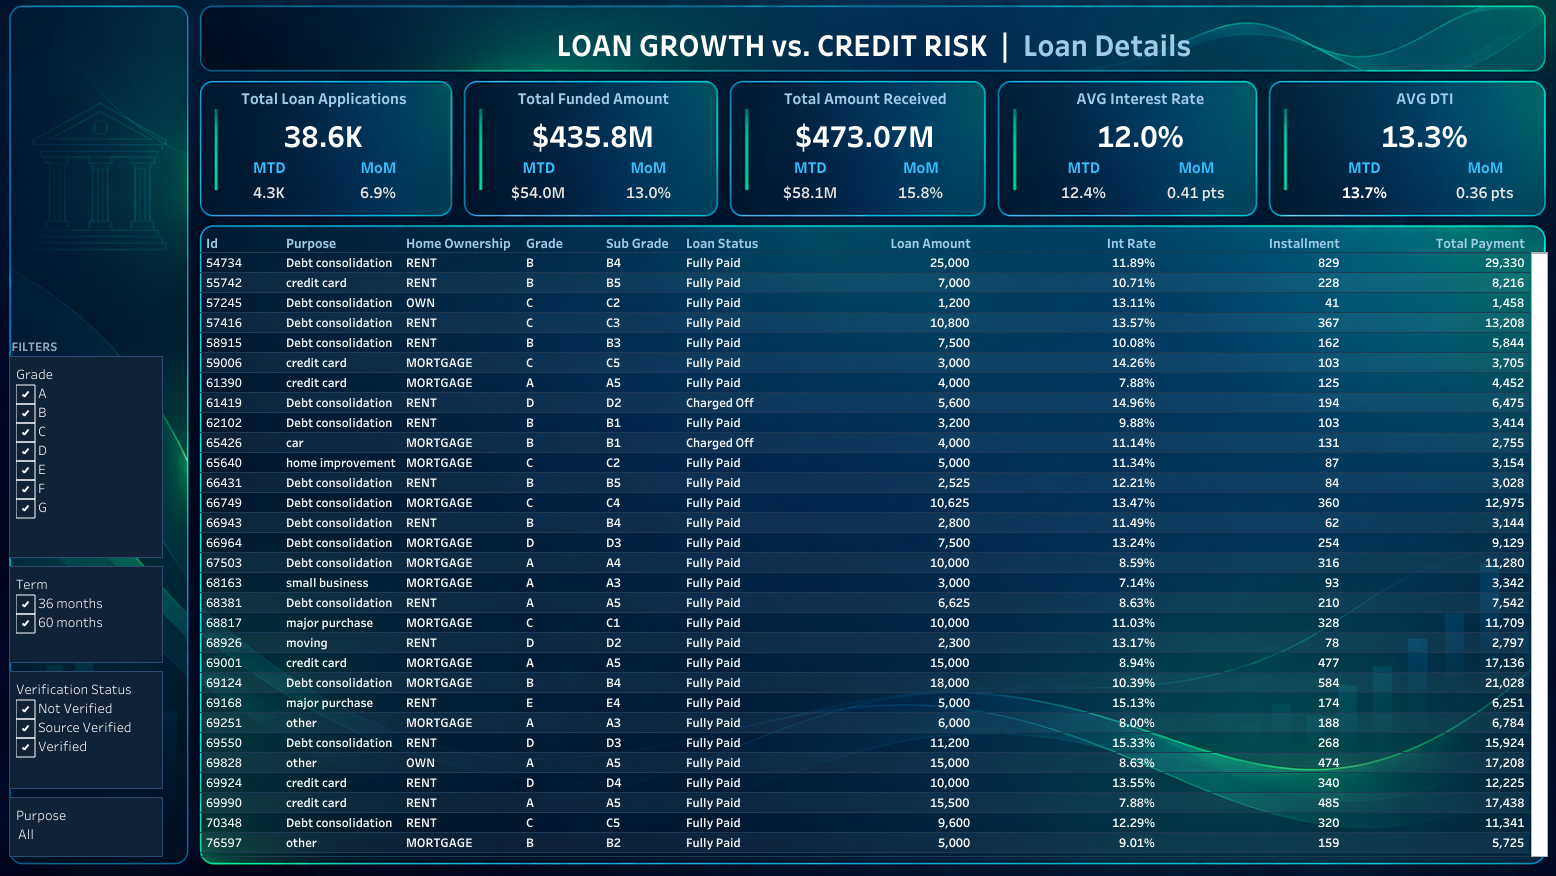

The dashboard page shown, as its layout file describes it:
{"tool":"tableau","page":{"name":"Loan Details","canvas":[1600,900],"ordinal":1},"visuals":[{"type":"image","param":"Image/abc.png","box":[8,8,1584,884]},{"type":"text","box":[211.7,24,1368,64]},{"type":"worksheet","title":"Total Loan Applications","mark":"Automatic","box":[237.3,93.4,217.9,72.9]},{"type":"worksheet","title":"Total Funded Amount","mark":"Automatic","box":[506.3,93.4,218.8,72.9]},{"type":"worksheet","title":"Total Amount Received","mark":"Automatic","box":[777.3,93.4,220.7,72.9]},{"type":"worksheet","title":"AVG Interest Rate","mark":"Automatic","box":[1050.1,93.4,224.5,72.9]},{"type":"worksheet","title":"AVG DTI","mark":"Automatic","box":[1325.8,93.4,242.5,72.9]},{"type":"text","box":[237.3,166.3,108.9,23.4]},{"type":"text","box":[346.2,166.3,108.9,23.4]},{"type":"text","box":[506.3,166.3,109.4,23.4]},{"type":"text","box":[615.7,166.3,109.4,23.4]},{"type":"text","box":[777.3,166.3,110.4,23.4]},{"type":"text","box":[887.6,166.3,110.4,23.4]},{"type":"text","box":[1050.1,166.3,112.3,23.4]},{"type":"text","box":[1162.4,166.3,112.3,23.4]},{"type":"text","box":[1325.8,166.3,121.3,23.4]},{"type":"text","box":[1447.1,166.3,121.3,23.4]},{"type":"worksheet","title":"MTD Total Loan Applications","mark":"Automatic","box":[237.3,188.8,108.9,30.6]},{"type":"worksheet","title":"MoM Loan Applications","mark":"Automatic","box":[346.2,188.8,108.9,30.6]},{"type":"worksheet","title":"MTD Total Funded Amount","mark":"Automatic","box":[506.3,188.8,109.4,30.6]},{"type":"worksheet","title":"MoM Total Funded Amount","mark":"Automatic","box":[615.7,188.8,109.4,30.6]},{"type":"worksheet","title":"MTD Total Amount Received","mark":"Automatic","box":[777.3,188.8,110.4,30.6]},{"type":"worksheet","title":"MoM Total Amount Received","mark":"Automatic","box":[887.6,188.8,110.4,30.6]},{"type":"worksheet","title":"MTD AVG INT Rate","mark":"Automatic","box":[1050.1,188.8,112.3,30.6]},{"type":"worksheet","title":"MoM AVG Int Rate","mark":"Automatic","box":[1162.4,188.8,112.3,30.6]},{"type":"worksheet","title":"MTD AVG DTI","mark":"Automatic","box":[1325.8,188.8,121.3,30.6]},{"type":"worksheet","title":"MoM AVG DTI","mark":"Automatic","box":[1447.1,188.8,121.3,30.6]},{"type":"worksheet","title":"Details Tab","mark":"Automatic","rows":["id","purpose","home_ownership","grade","sub_grade","loan_status"],"box":[222.1,243.8,1348.1,625.7]},{"type":"text","box":[31.4,350,154,16]},{"type":"filter","title":"Total Loan Applications","param":"[federated.13vzdsn0al6ioo1g1fbnn06qu7pc].[none:grade:nk]","box":[31.4,368,154,202]},{"type":"filter","title":"Total Loan Applications","param":"[federated.13vzdsn0al6ioo1g1fbnn06qu7pc].[none:term:nk]","box":[31.4,578,154,97]},{"type":"filter","title":"Total Loan Applications","param":"[federated.13vzdsn0al6ioo1g1fbnn06qu7pc].[none:verification_status:nk]","box":[31.4,683,154,118]},{"type":"filter","title":"Total Loan Applications","param":"[federated.13vzdsn0al6ioo1g1fbnn06qu7pc].[none:purpose:nk]","box":[31.4,809,154,60]}]}

Visuals, with their boxes in screenshot pixels (x1, y1, x2, y2), scaled from the page's 1600x900 canvas onto the 1556x876 screenshot:
image: locate(8, 8, 1548, 868)
text: locate(206, 23, 1536, 86)
"Total Loan Applications" worksheet: locate(231, 91, 443, 162)
"Total Funded Amount" worksheet: locate(492, 91, 705, 162)
"Total Amount Received" worksheet: locate(756, 91, 971, 162)
"AVG Interest Rate" worksheet: locate(1021, 91, 1240, 162)
"AVG DTI" worksheet: locate(1289, 91, 1525, 162)
text: locate(231, 162, 337, 185)
text: locate(337, 162, 443, 185)
text: locate(492, 162, 599, 185)
text: locate(599, 162, 705, 185)
text: locate(756, 162, 863, 185)
text: locate(863, 162, 971, 185)
text: locate(1021, 162, 1130, 185)
text: locate(1130, 162, 1240, 185)
text: locate(1289, 162, 1407, 185)
text: locate(1407, 162, 1525, 185)
"MTD Total Loan Applications" worksheet: locate(231, 184, 337, 214)
"MoM Loan Applications" worksheet: locate(337, 184, 443, 214)
"MTD Total Funded Amount" worksheet: locate(492, 184, 599, 214)
"MoM Total Funded Amount" worksheet: locate(599, 184, 705, 214)
"MTD Total Amount Received" worksheet: locate(756, 184, 863, 214)
"MoM Total Amount Received" worksheet: locate(863, 184, 971, 214)
"MTD AVG INT Rate" worksheet: locate(1021, 184, 1130, 214)
"MoM AVG Int Rate" worksheet: locate(1130, 184, 1240, 214)
"MTD AVG DTI" worksheet: locate(1289, 184, 1407, 214)
"MoM AVG DTI" worksheet: locate(1407, 184, 1525, 214)
"Details Tab" worksheet: locate(216, 237, 1527, 846)
text: locate(31, 341, 180, 356)
"Total Loan Applications" filter: locate(31, 358, 180, 555)
"Total Loan Applications" filter: locate(31, 563, 180, 657)
"Total Loan Applications" filter: locate(31, 665, 180, 780)
"Total Loan Applications" filter: locate(31, 787, 180, 846)
